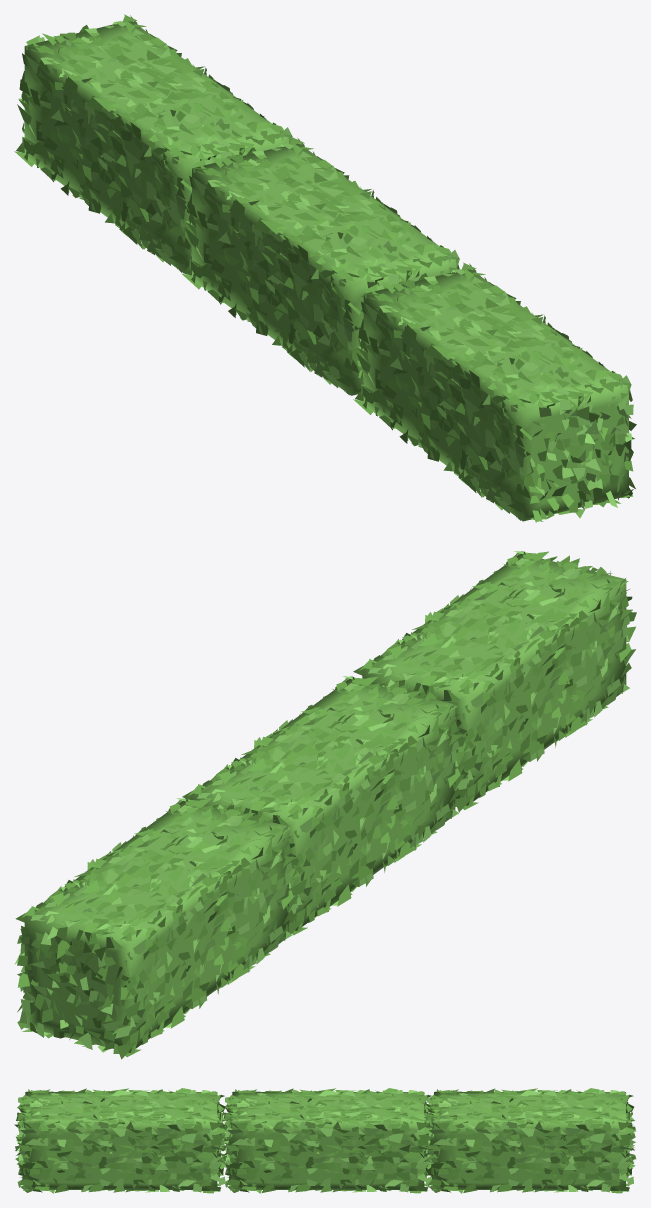
Rendered from BUSH14.fbx.
The picture shows the model from 3 angles, top to bottom: view 1: azimuth 30°, elevation 25°; view 2: azimuth 150°, elevation 25°; view 3: azimuth 270°, elevation 25°; orthographic projection. The views are drawn at different scales.
Visible parts, largest first — view 1: Cube.540; view 2: Cube.540; view 3: Cube.540.
Boxes of the visible parts, x1,y1,x2,y2 form: Cube.540: (14,14,636,522); Cube.540: (14,551,636,1059); Cube.540: (14,1088,636,1193).
Bounding box in the file's own units: 1474 × 1469 × 11152.
